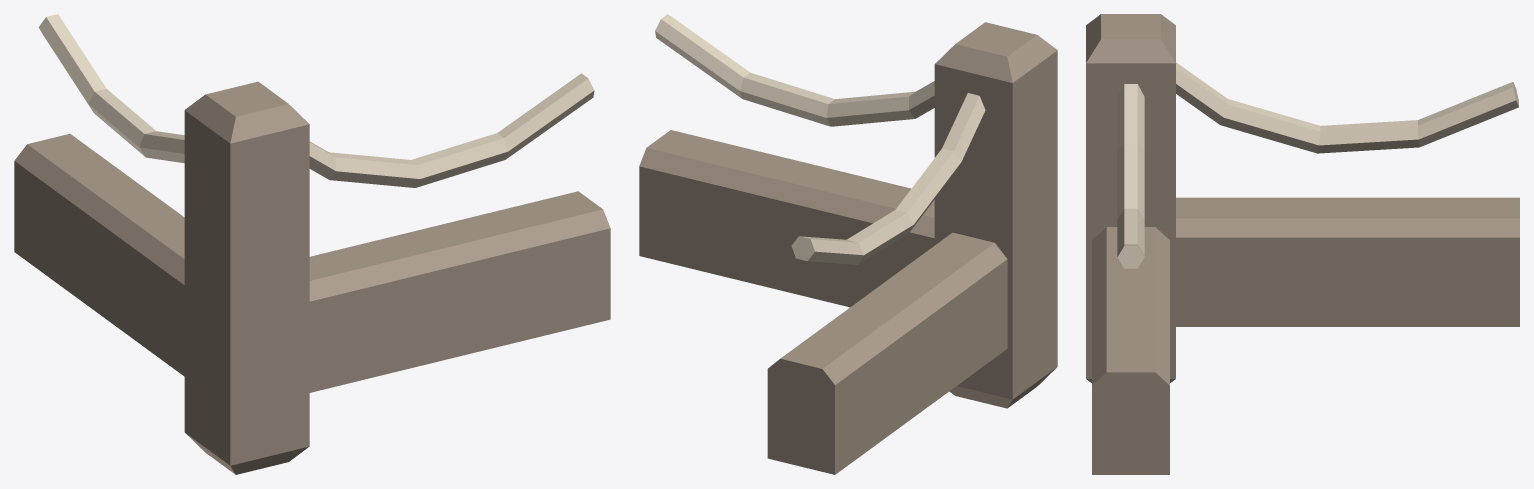
The model's file is Wood_Rope_Corner.glb.
3 views of the same model, side by side, from view 1: azimuth 30°, elevation 25°; view 2: azimuth 150°, elevation 25°; view 3: azimuth 270°, elevation 25° (orthographic). The views are drawn at different scales.
Visible parts, largest first — view 1: object3, object1, object2, object4; view 2: object3, object1, object2, object4; view 3: object3, object1, object4, object2.
Boxes of the visible parts, x1,y1,x2,y2 form: object3: (14, 134, 610, 392); object1: (184, 81, 309, 474); object2: (309, 73, 594, 187); object4: (38, 14, 184, 163); object3: (639, 130, 1007, 474); object1: (934, 22, 1057, 408); object2: (655, 14, 934, 126); object4: (791, 93, 985, 264); object3: (1092, 197, 1519, 474); object1: (1086, 14, 1175, 382); object4: (1176, 62, 1518, 153); object2: (1117, 84, 1144, 268).
Size of the model in its own units: 1.12 by 0.9959 by 1.12.
